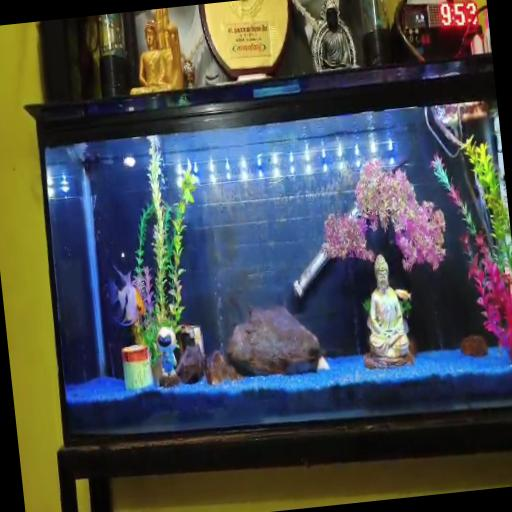Fish: (109, 266, 145, 326)
